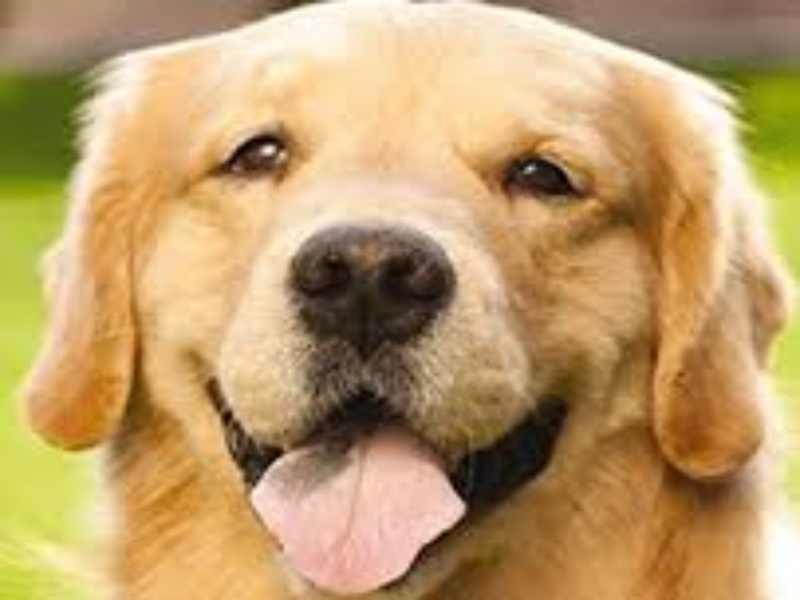dog: (30, 13, 795, 599)
